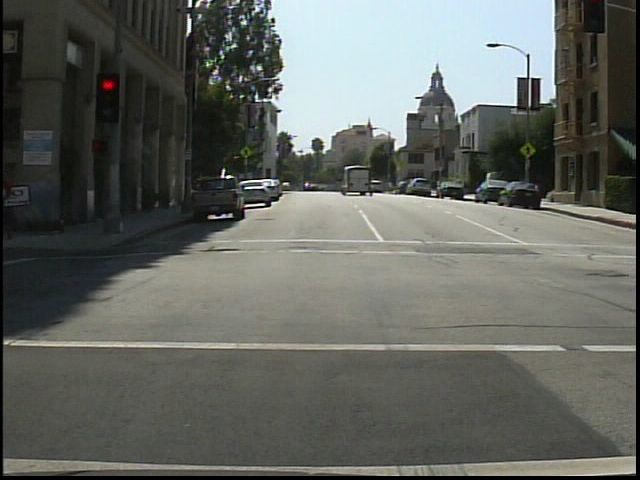person: (5, 156, 27, 241)
